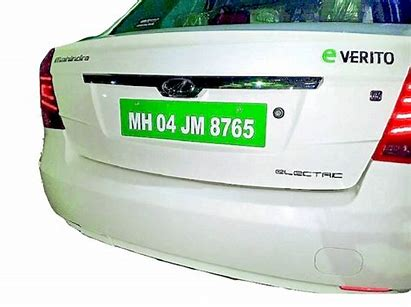license-plate: (119, 99, 265, 146)
